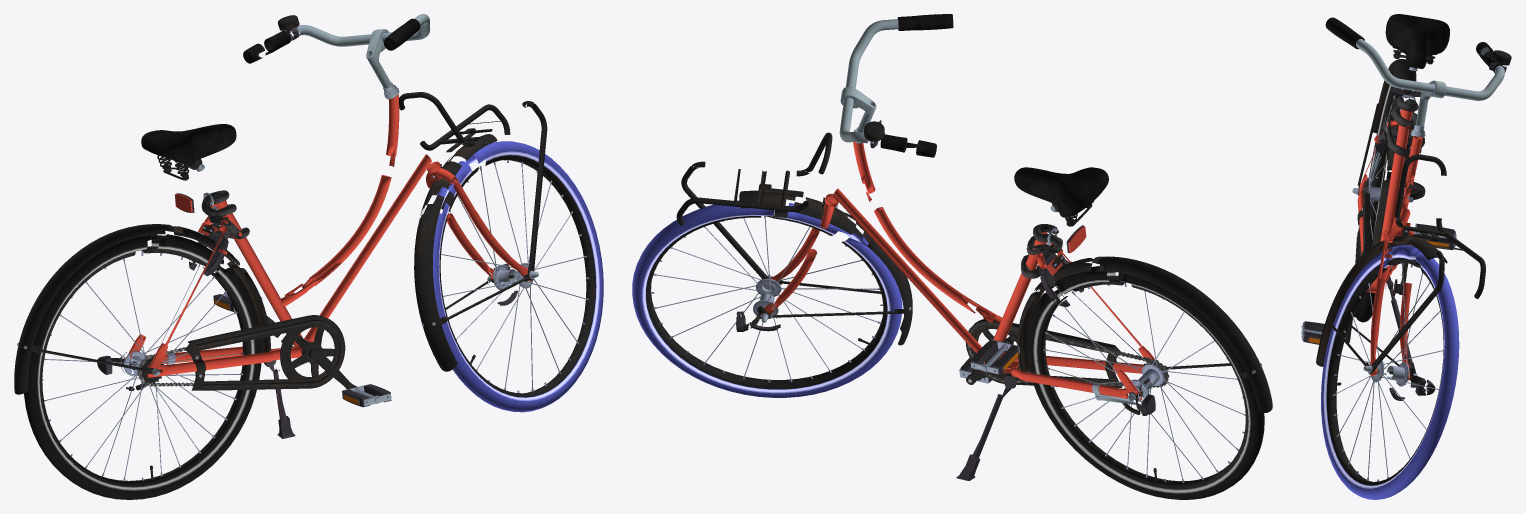
The model's file is swapfiets-sketchfab-preview.glb.
The picture shows the model from 3 angles, left to right: view 1: azimuth 30°, elevation 25°; view 2: azimuth 150°, elevation 25°; view 3: azimuth 270°, elevation 25°; orthographic projection. The views are drawn at different scales.
Visible parts, largest first — view 1: SwapfietsBody, LenkerBars, RadVornMesh, RadHintenMesh; view 2: SwapfietsBody, LenkerBars, RadVornMesh, RadHintenMesh; view 3: SwapfietsBody, LenkerBars, RadVornMesh, RadHintenMesh.
Part boxes in pixels (bbox=[...]): SwapfietsBody: bbox=[14, 43, 603, 499]; LenkerBars: bbox=[264, 14, 534, 156]; RadVornMesh: bbox=[293, 157, 518, 344]; RadHintenMesh: bbox=[97, 214, 303, 390]; SwapfietsBody: bbox=[632, 140, 1272, 499]; LenkerBars: bbox=[692, 14, 953, 193]; RadVornMesh: bbox=[736, 194, 975, 377]; RadHintenMesh: bbox=[973, 244, 1155, 415]; SwapfietsBody: bbox=[1301, 14, 1493, 499]; LenkerBars: bbox=[1325, 17, 1511, 259]; RadVornMesh: bbox=[1386, 196, 1426, 400]; RadHintenMesh: bbox=[1386, 97, 1425, 300].
Bounding box in the file's own units: 181 × 118 × 57.02.
Materials: 2 (2 with a texture image).
